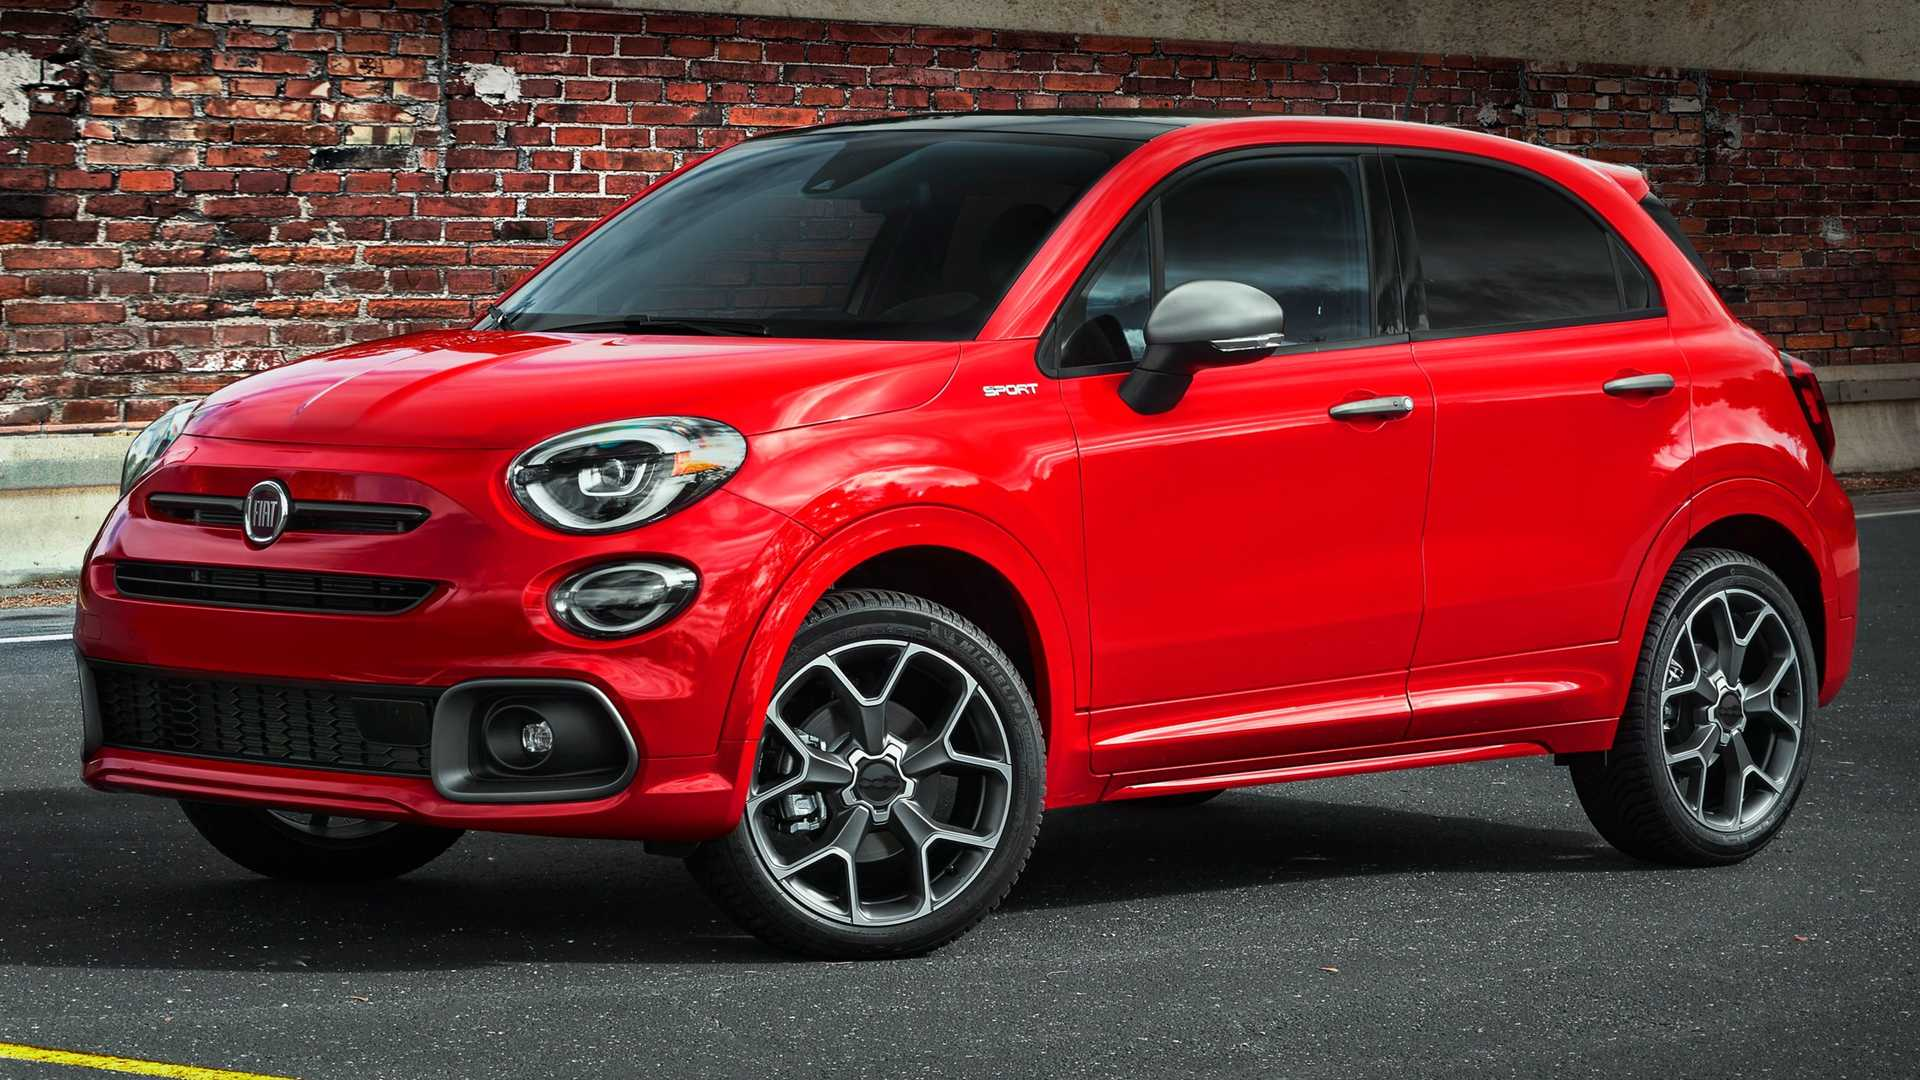araba: (76, 111, 1863, 953)
